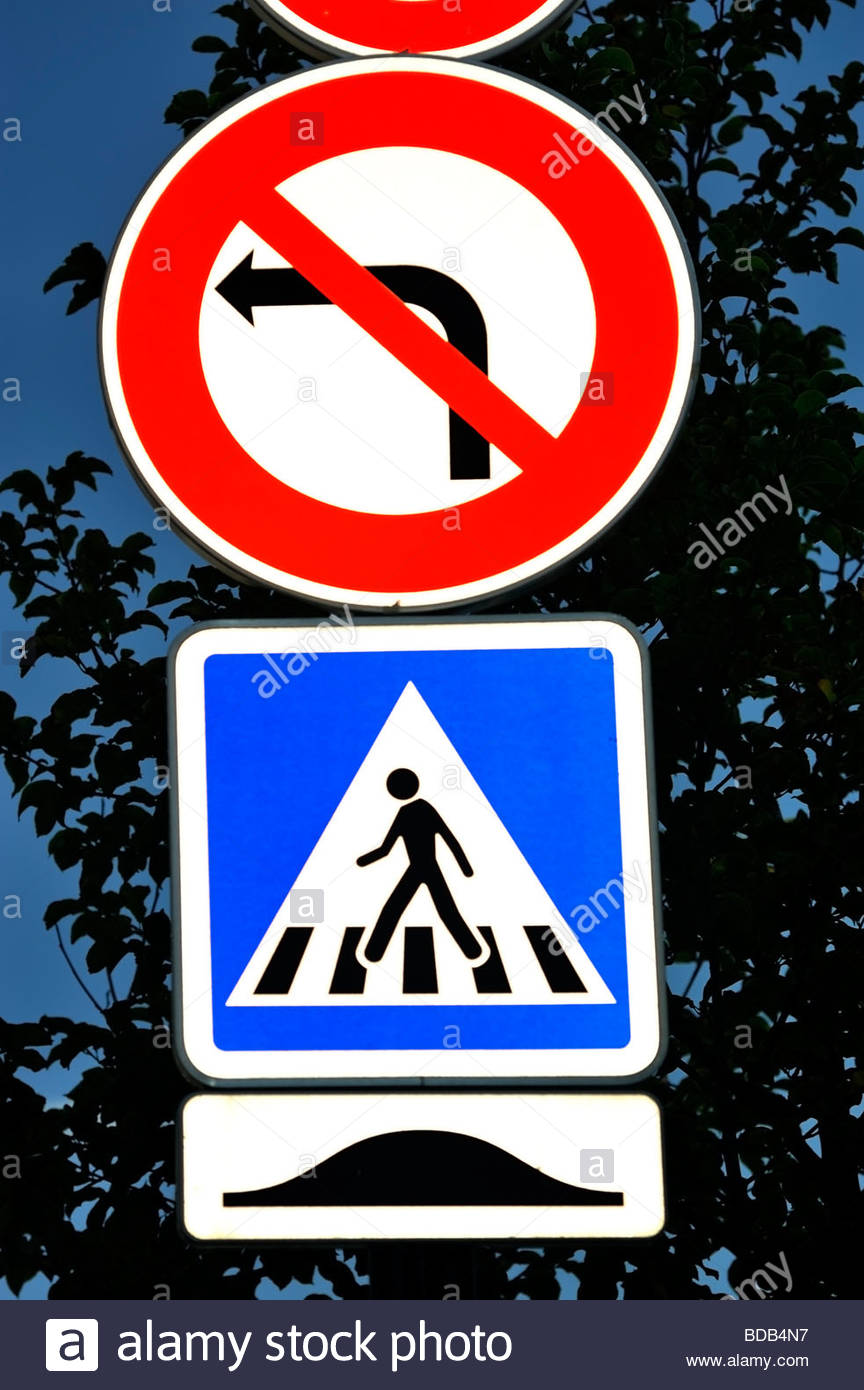No_left_turn: (96, 54, 703, 608)
